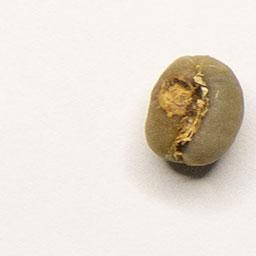peaberry: (141, 50, 247, 171)
